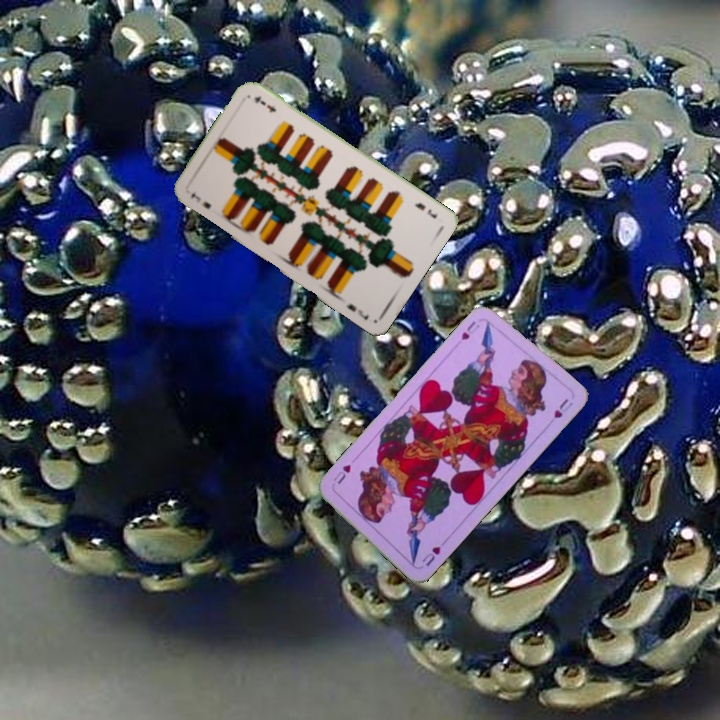E7: (410, 199, 440, 221), (186, 189, 214, 211)
HU: (418, 542, 443, 569), (457, 317, 482, 343)
